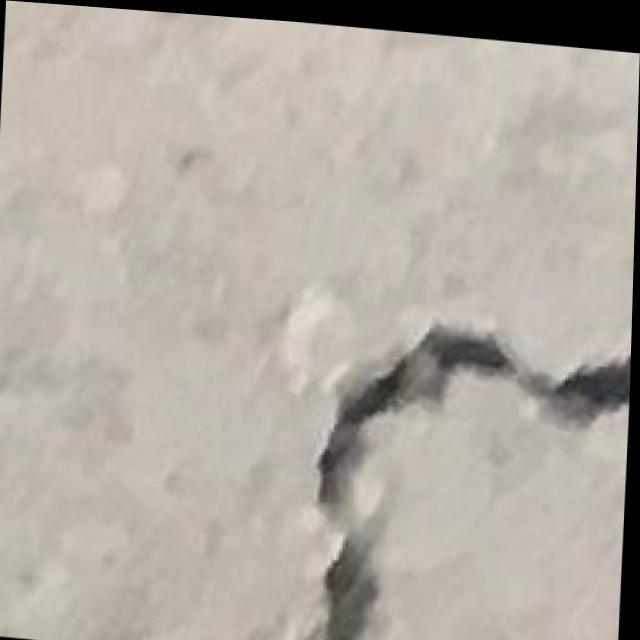Crack: (278, 290, 632, 640)
